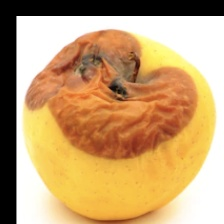apple: (39, 17, 218, 200)
